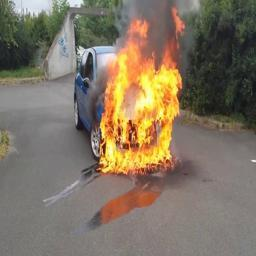fire: (98, 7, 185, 176)
